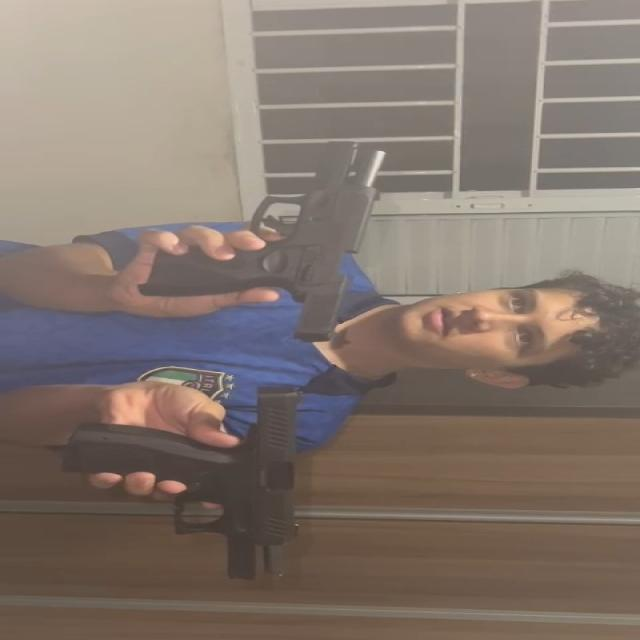gun: (121, 140, 386, 340), (58, 384, 307, 584)
